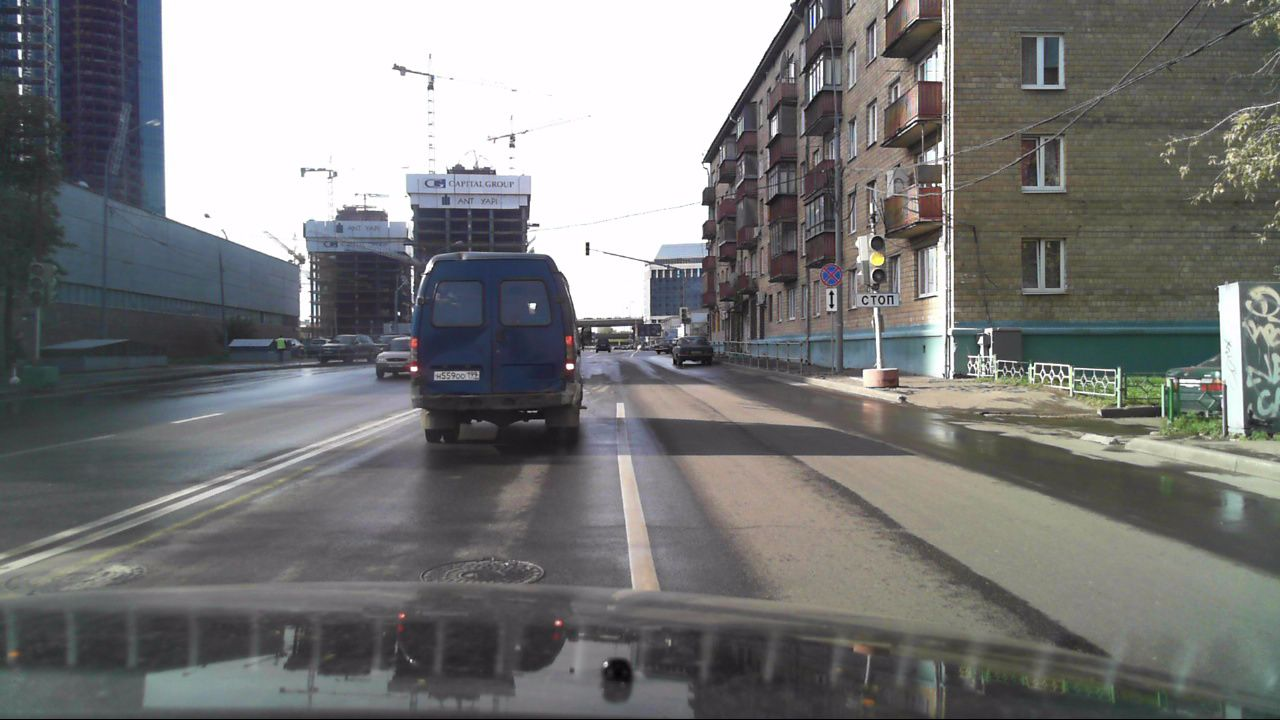No Parking: (818, 262, 843, 285)
